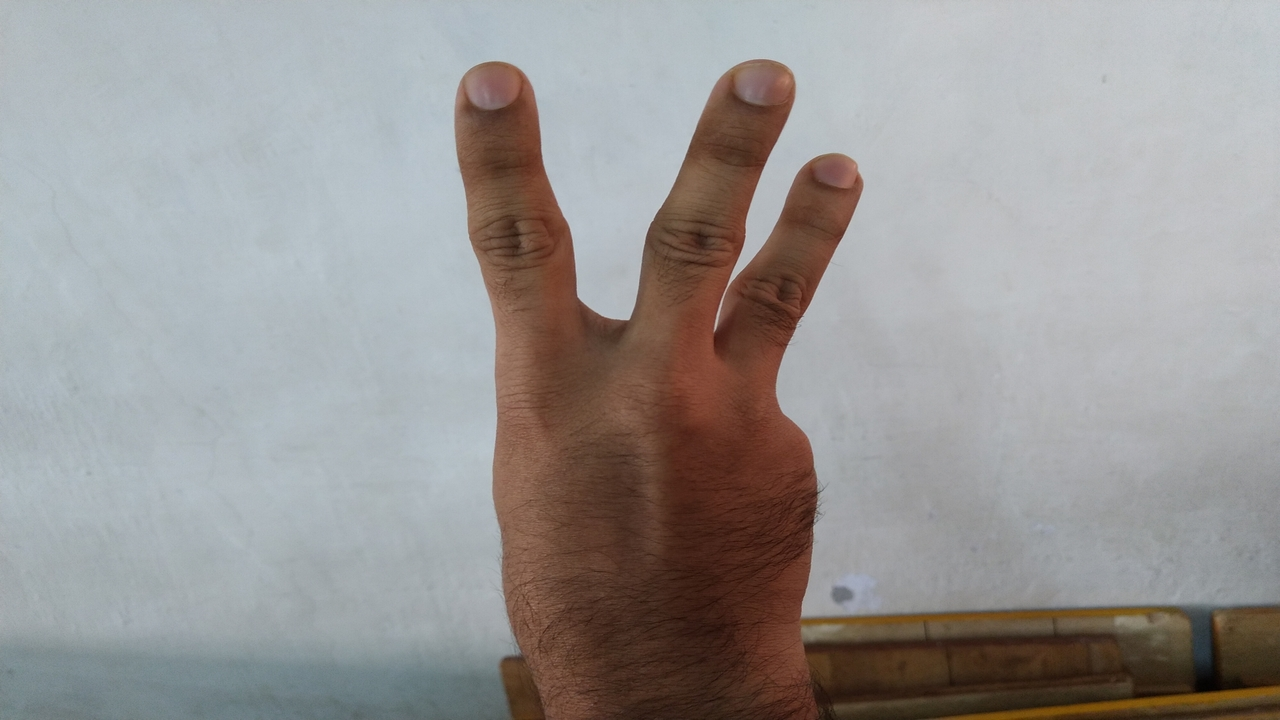fingertip: (450, 58, 538, 120), (790, 146, 874, 210), (724, 60, 810, 114)
